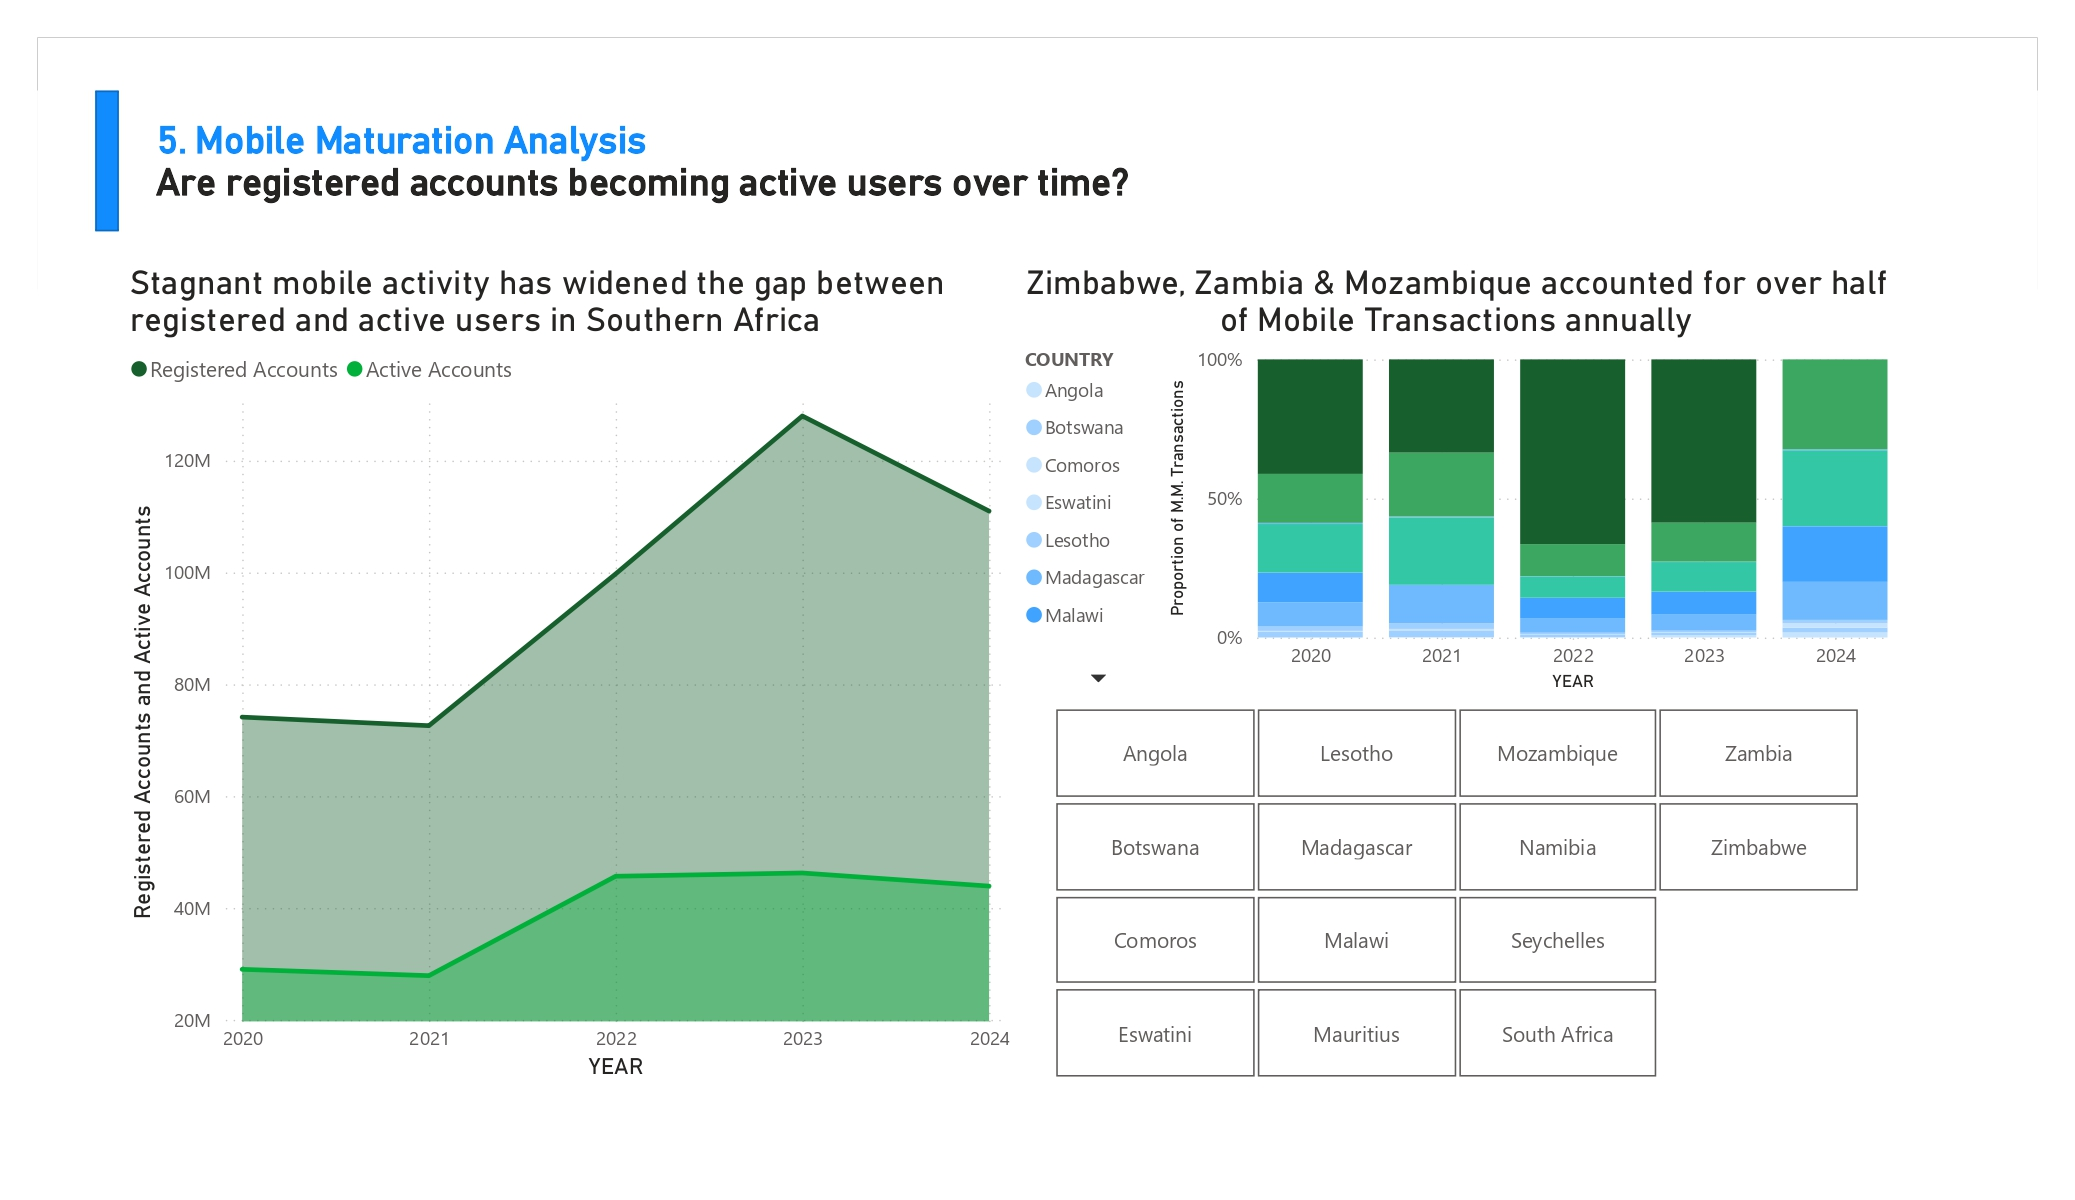

Layout of this report page (visuals, bound fields, positions):
{"tool":"powerbi","page":{"name":"5. Mobile Maturation","canvas":[1280,720],"ordinal":5},"visuals":[{"type":"areaChart","title":"Stagnant mobile activity has widened the gap between registered and active users in Southern Africa","fields":{"Category":["5_imf_mobile_money_maturation.YEAR"],"Y":["Sum(5_imf_mobile_money_maturation.registered_mm_accounts)","Sum(5_imf_mobile_money_maturation.active_mm_accounts)"]},"box":[53.8,144.5,572.8,527.5],"z":0},{"type":"hundredPercentStackedColumnChart","title":"Zimbabwe, Zambia & Mozambique accounted for over half of Mobile Transactions annually","fields":{"Category":["5_imf_mobile_money_maturation.YEAR"],"Series":["5_imf_mobile_money_maturation.COUNTRY"],"Y":["Sum(5_imf_mobile_money_maturation.pct_of_mm_transactions_sadc)"]},"box":[626.6,144.5,562.7,278.8],"z":1000},{"type":"slicer","fields":{"Values":["5_imf_mobile_money_maturation.COUNTRY"]},"box":[626.6,423.3,562.7,248.6],"z":2000},{"type":"shape","box":[37,33.6,15.1,90.7],"z":3000},{"type":"textbox","box":[70.6,47,670.2,77.3],"z":4000}]}

Visuals, with their boxes on the page's 1280x720 design canvas (x1, y1, x2, y2). These are canvas units, not pixel positions in the 2075x1200 screenshot, which may show the page scaled, cropped or inside an application window:
"Stagnant mobile activity has widened the gap between registered and active users in Southern Africa" areaChart: 54 144 627 672
"Zimbabwe, Zambia & Mozambique accounted for over half of Mobile Transactions annually" hundredPercentStackedColumnChart: 627 144 1189 423
slicer - 5_imf_mobile_money_maturation.COUNTRY: 627 423 1189 672
shape: 37 34 52 124
textbox: 71 47 741 124
